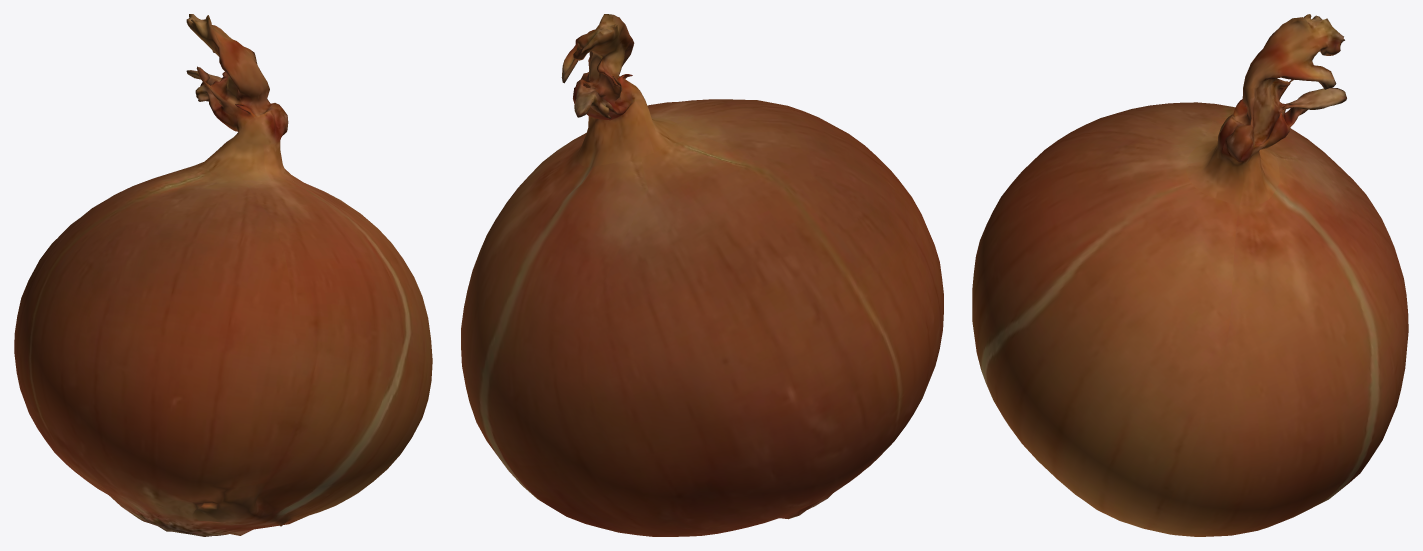
File: yellow_onion.glb
3 renders of one model, left to right at view 1: azimuth 30°, elevation 25°; view 2: azimuth 150°, elevation 25°; view 3: azimuth 270°, elevation 25°, orthographic. The views are drawn at different scales.
Visible parts, largest first — view 1: yellow_onion; view 2: yellow_onion; view 3: yellow_onion.
Boxes of the visible parts, bbox=[...] form: yellow_onion: bbox=[14, 14, 432, 536]; yellow_onion: bbox=[461, 14, 943, 536]; yellow_onion: bbox=[972, 14, 1408, 536].
Bounding box in the file's own units: 0.0725 × 0.0864 × 0.0686.
Materials: 1 (1 with a texture image).
